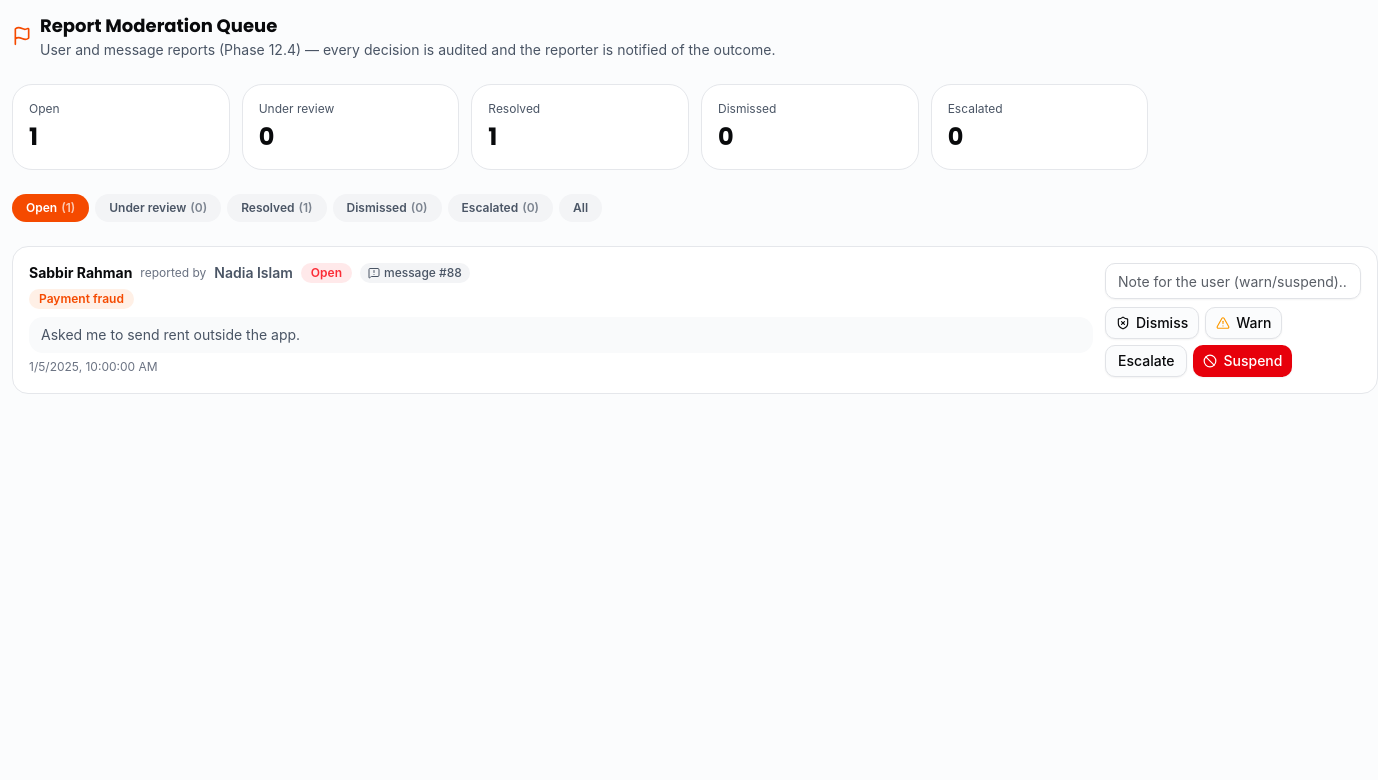
Test: AdminReportsPanel › filters the queue by status tab and shows summary counts
Expected: the text "Sabbir Rahman" is shown, [29,263,132,283]
Expected: the text "1" is shown 2 times, [29,120,38,153]; [488,120,497,153]
Note: Switching to the All tab shows both rows.
Click the button "All" at (581, 208), box [559,194,602,222]
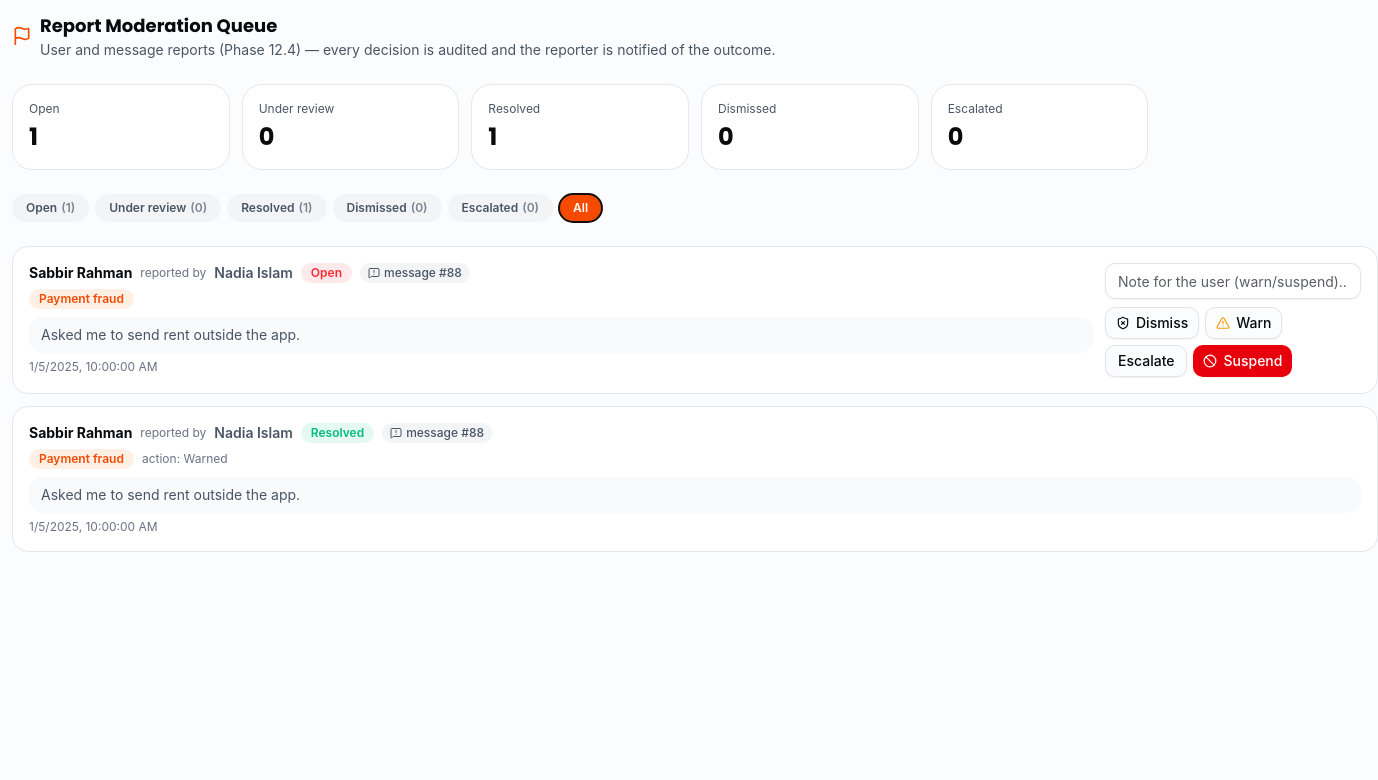
Expected: the text "action: Warned" is shown, [142,451,228,467]
